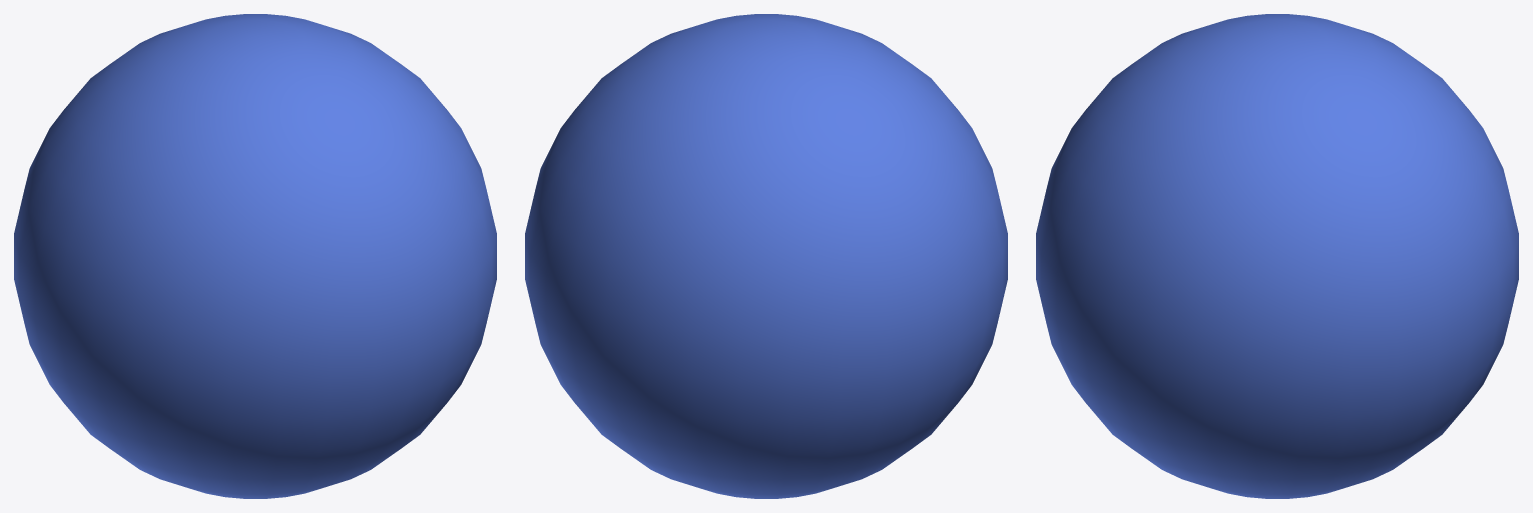
The model's file is soccer_ball_69e4410c.glb.
The picture shows the model from 3 angles, left to right: view 1: azimuth 30°, elevation 25°; view 2: azimuth 150°, elevation 25°; view 3: azimuth 270°, elevation 25°; orthographic projection.
Parts seen in each view (by area): view 1: Object_2; view 2: Object_2; view 3: Object_2.
Part boxes in pixels (x1=…): Object_2: x1=14, y1=14, x2=496, y2=498; Object_2: x1=525, y1=14, x2=1007, y2=498; Object_2: x1=1036, y1=14, x2=1518, y2=498.
Bounding box in the file's own units: 58.95 × 59.6 × 59.27.
